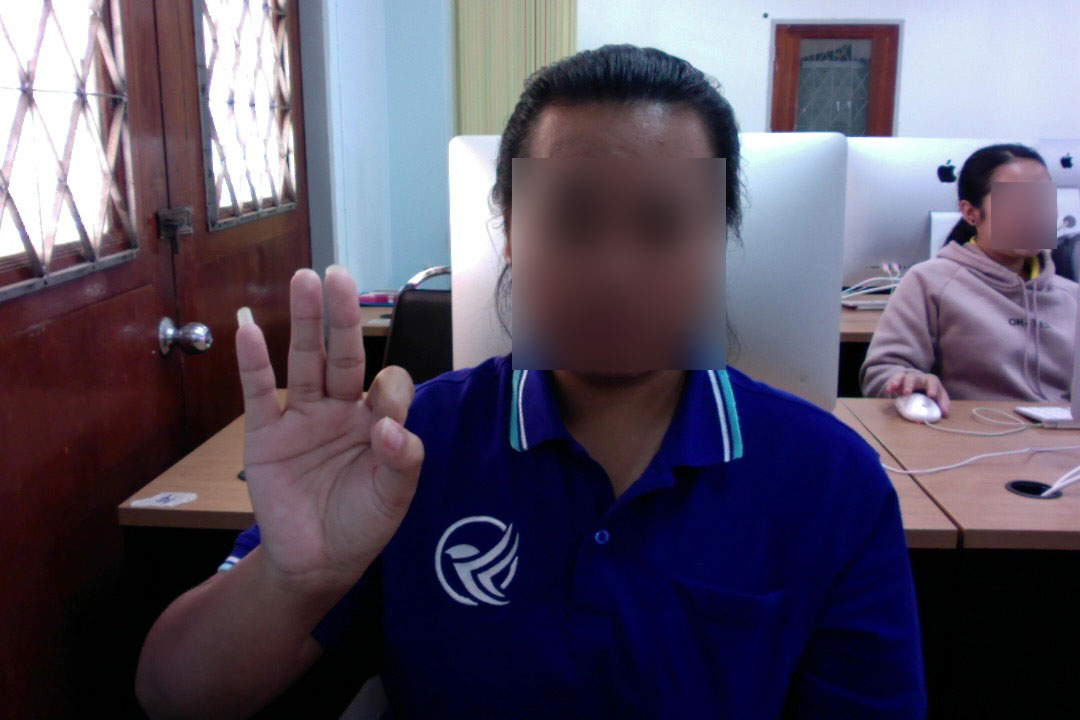for: (227, 251, 431, 590)
